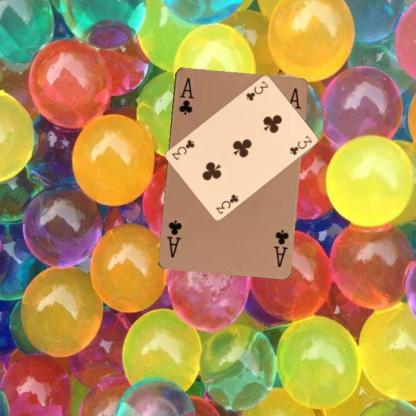3c: (243, 78, 270, 102), (213, 191, 240, 215)
Ac: (176, 74, 195, 116), (271, 226, 289, 269)
